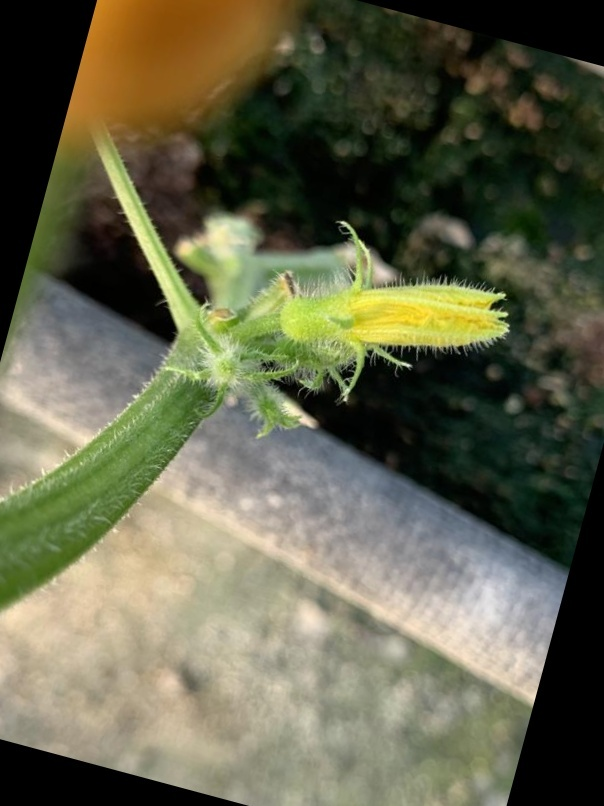bud: (268, 239, 514, 389)
growth: (267, 237, 515, 391)
